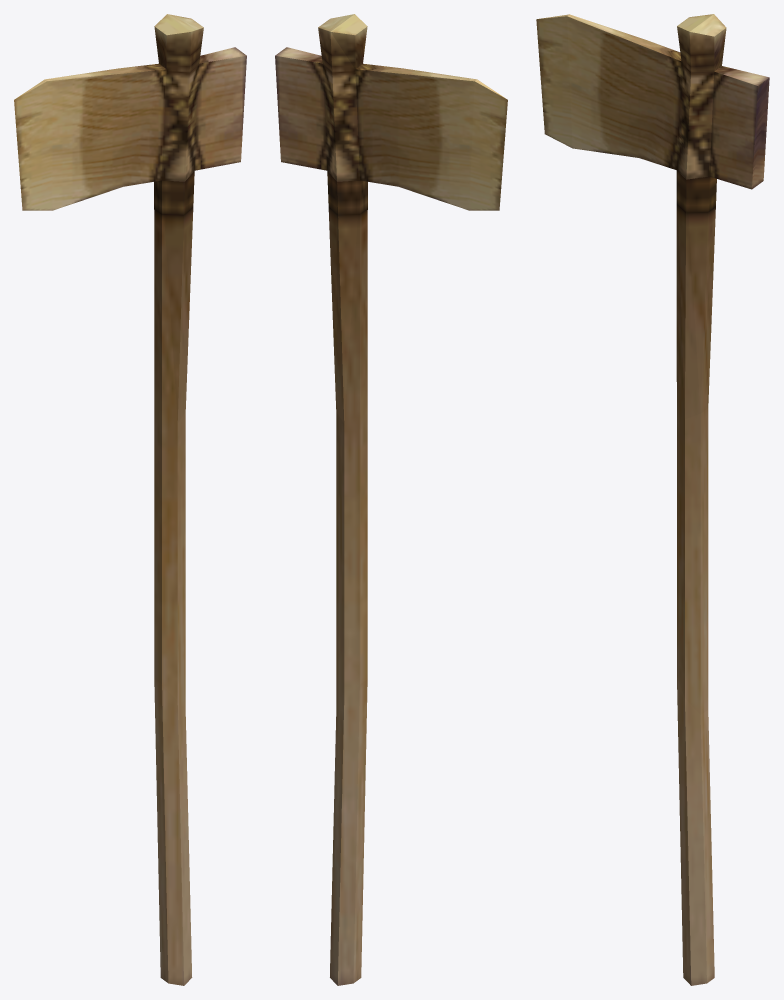
The model's file is Bison_noviceAxe.obj.
The picture shows the model from 3 angles, left to right: view 1: azimuth 30°, elevation 25°; view 2: azimuth 150°, elevation 25°; view 3: azimuth 330°, elevation 25°; orthographic projection.
Parts seen in each view (by area): view 1: Bison_noviceAxe_tri; view 2: Bison_noviceAxe_tri; view 3: Bison_noviceAxe_tri.
Part boxes in pixels (x1=…): Bison_noviceAxe_tri: x1=14, y1=14, x2=246, y2=985; Bison_noviceAxe_tri: x1=275, y1=14, x2=507, y2=985; Bison_noviceAxe_tri: x1=536, y1=14, x2=769, y2=985.
Size of the model in its own units: 0.9279 by 3.73 by 0.1722.
Materials: 1 (1 with a texture image).
